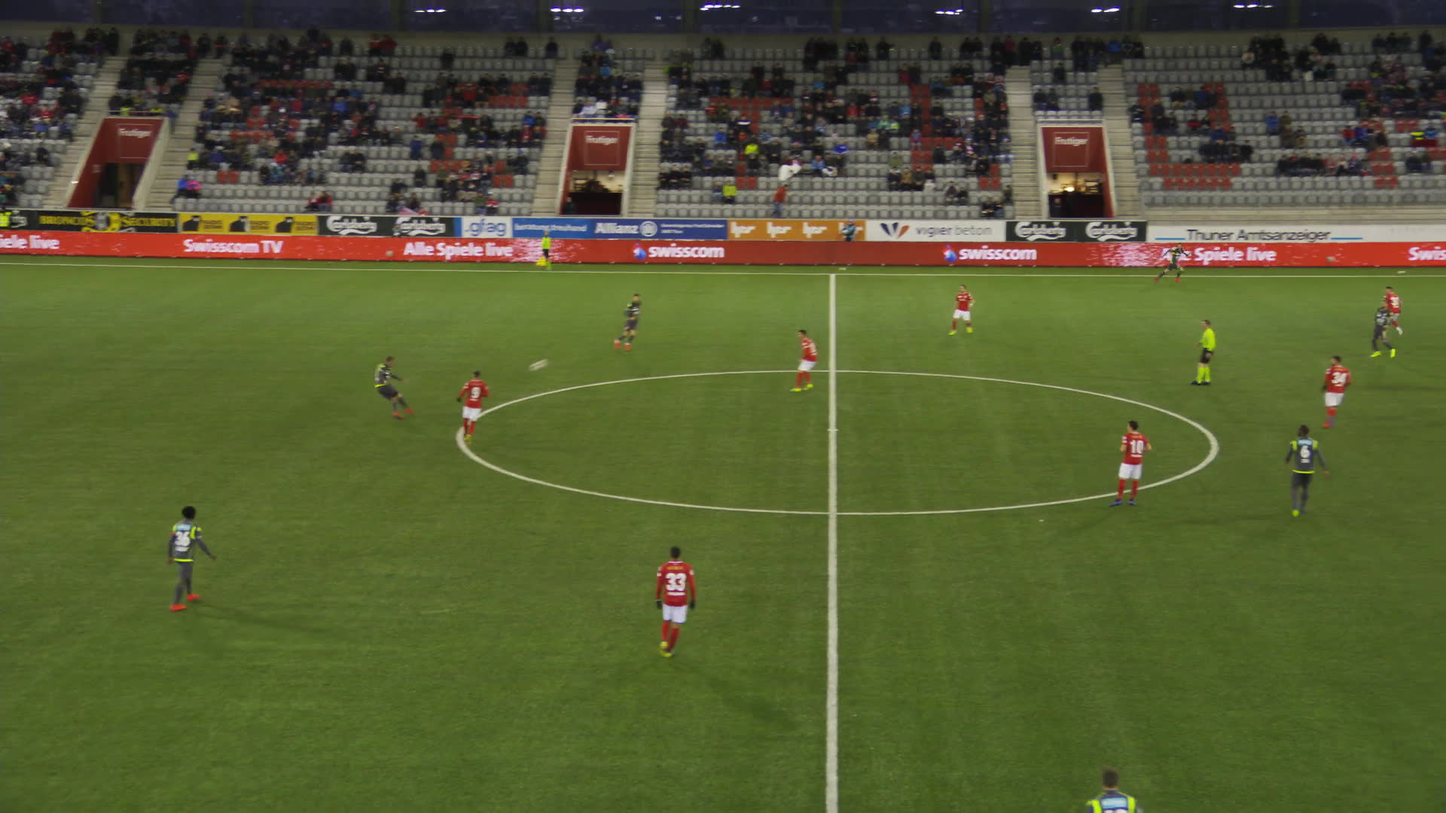ball: (529, 359, 546, 370)
player: (654, 544, 699, 664), (163, 504, 210, 611), (1285, 423, 1329, 521), (1113, 419, 1153, 508), (365, 354, 413, 421), (462, 370, 497, 440), (1327, 352, 1357, 431), (1093, 771, 1146, 812), (789, 328, 818, 393), (618, 291, 648, 350), (1371, 297, 1400, 357), (948, 284, 975, 336), (1157, 241, 1186, 284), (1383, 285, 1403, 334)
referee: (1190, 318, 1216, 386), (538, 229, 556, 269)
